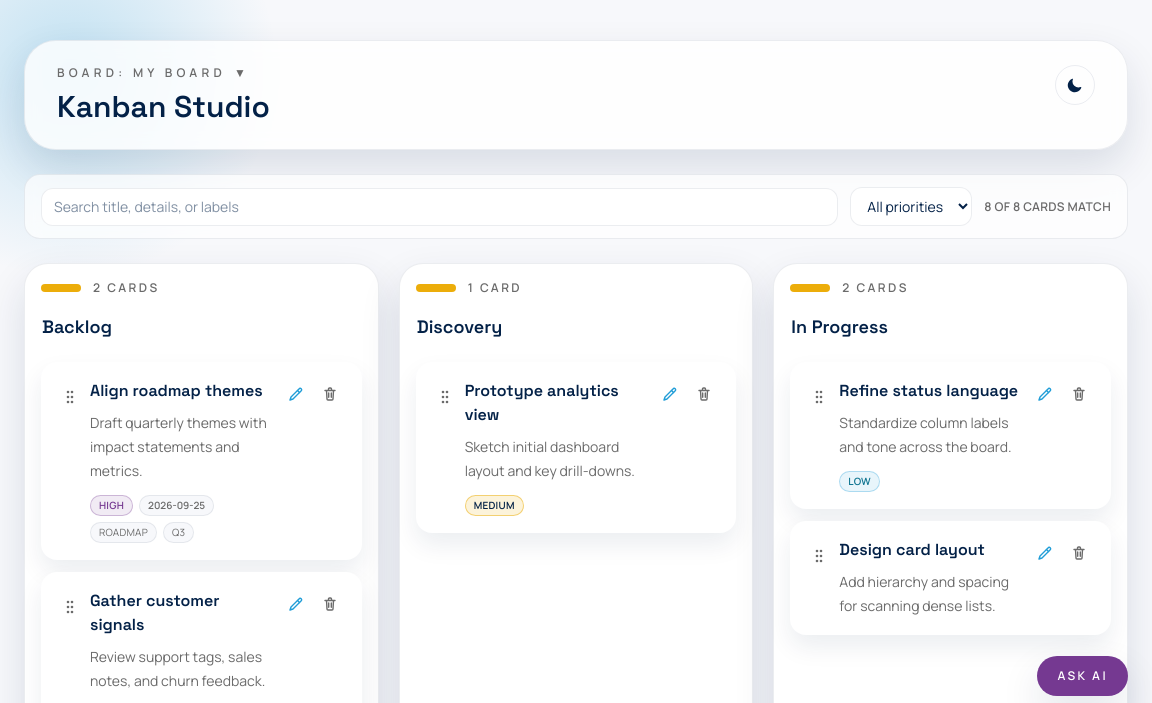
KanbanBoard › saving › shows the edit on the board
Click the button named "edit align roadmap themes" at [296, 394], box 281,379 -> 311,409
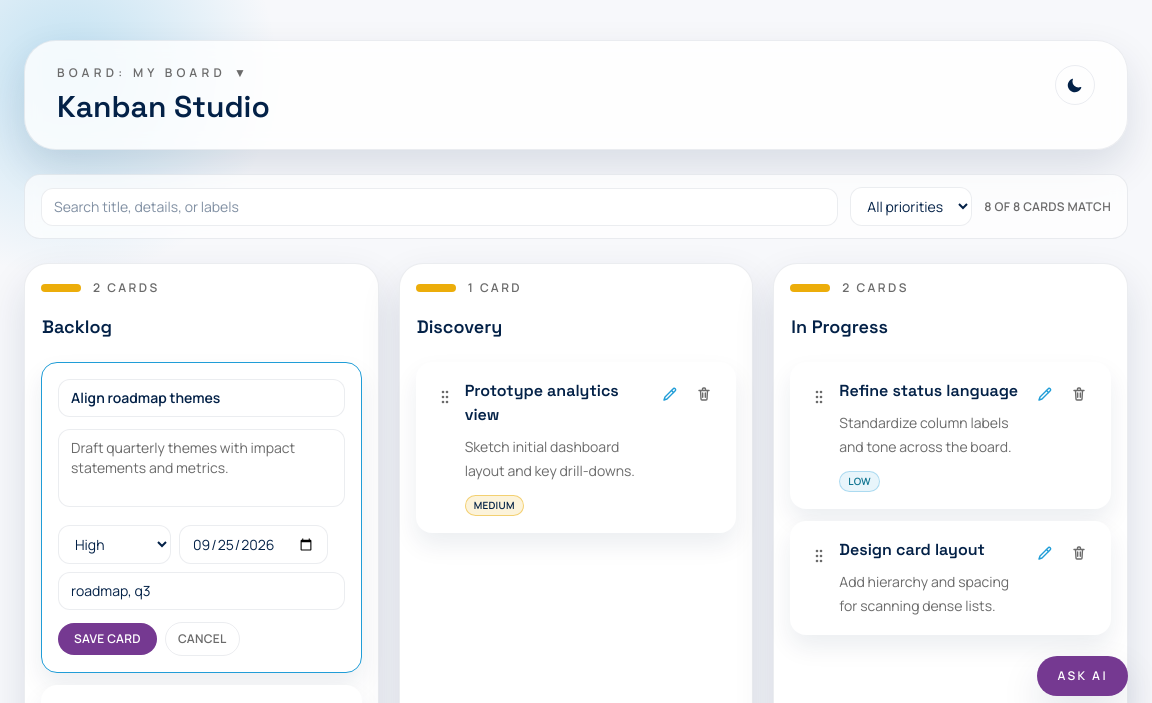
Replace the text in the field named "Card title" with "Now renamed" at [201, 398], box 58,379 -> 345,417
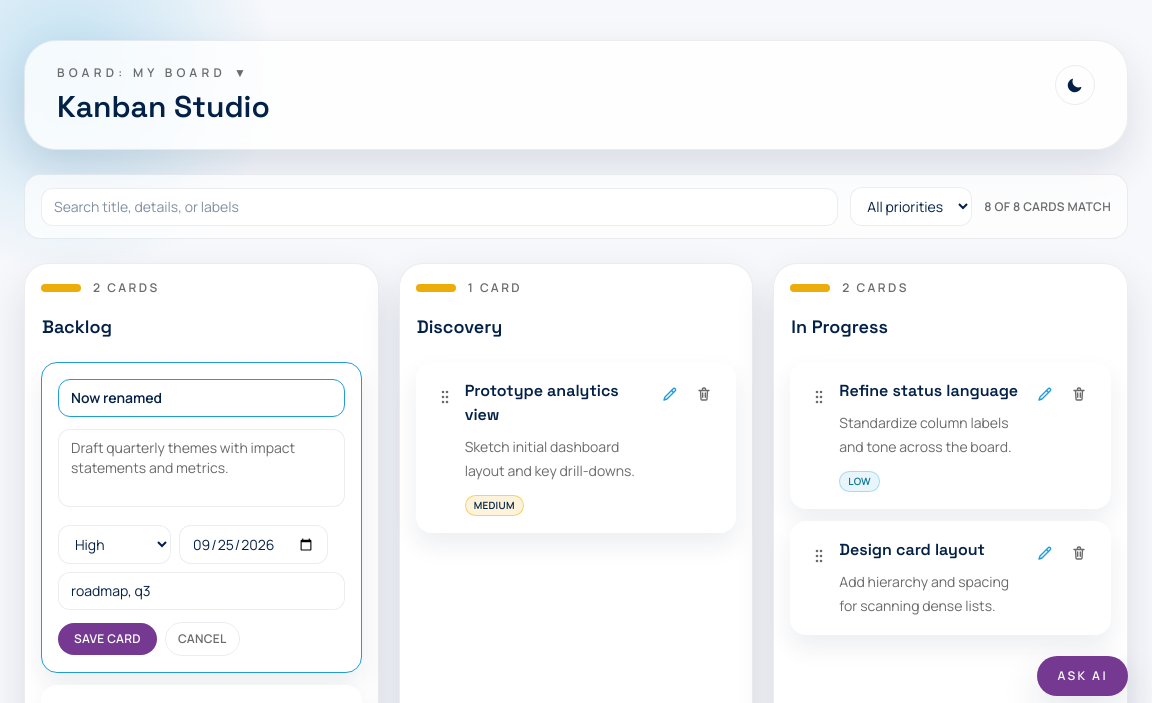
Click the button "Save card" at [107, 639], box 58,623 -> 157,655
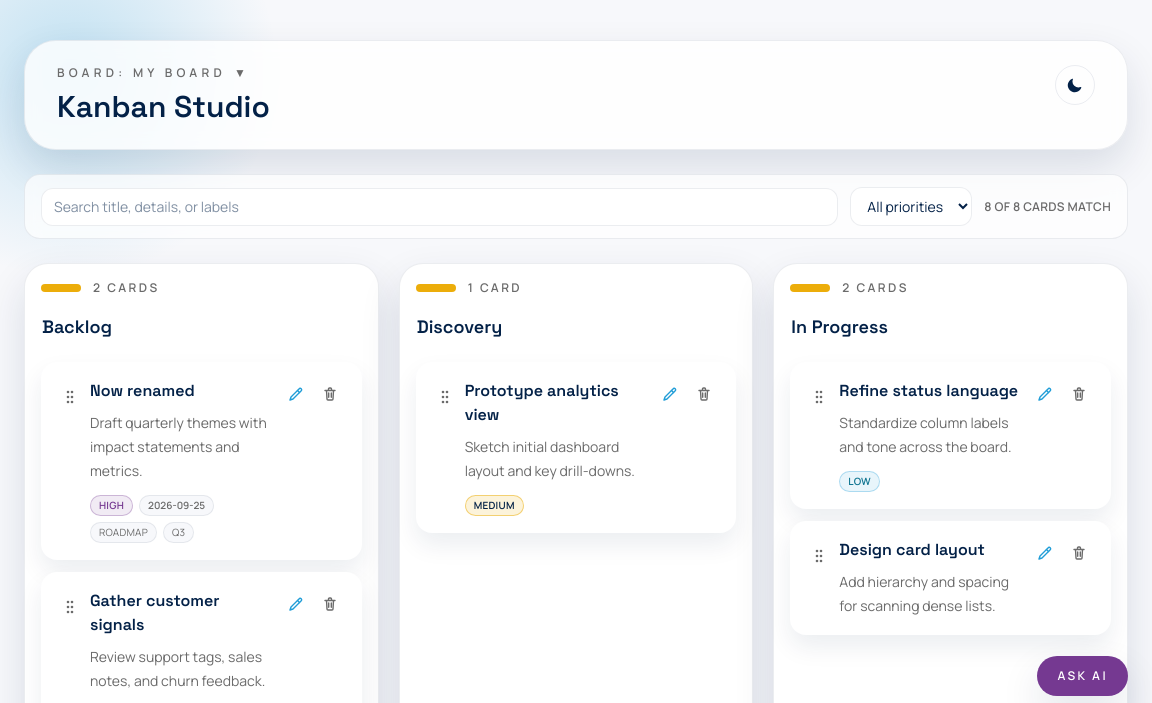
Expected: the heading "Align roadmap themes" is not shown
Result: the heading "Now renamed" is shown at 90,380 -> 195,401
